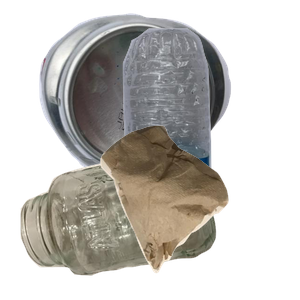glass: (18, 143, 227, 300)
metal: (37, 11, 261, 180)
plastic: (111, 26, 300, 206)
trash: (98, 123, 300, 300)
